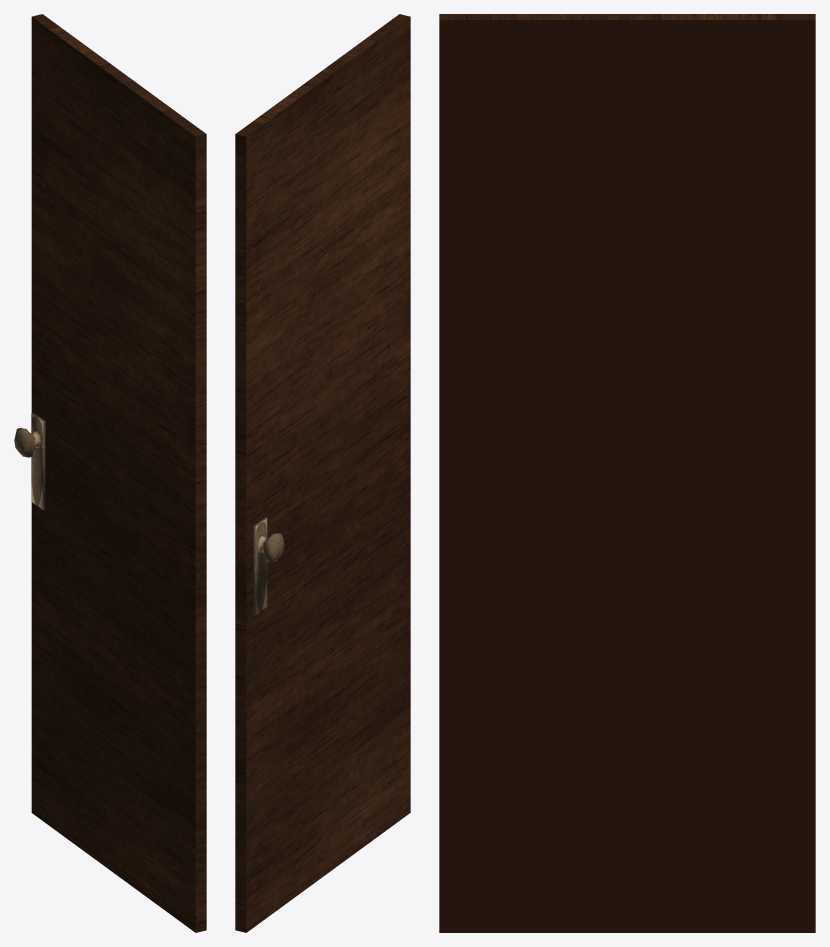
File: door.gltf
The picture shows the model from 3 angles, left to right: view 1: azimuth 30°, elevation 25°; view 2: azimuth 150°, elevation 25°; view 3: azimuth 270°, elevation 25°; orthographic projection. The views are drawn at different scales.
Visible parts, largest first — view 1: DoorBody; view 2: DoorBody; view 3: DoorBody.
Boxes of the visible parts, <box> form: DoorBody: <box>14,14,206,932</box>; DoorBody: <box>235,14,410,932</box>; DoorBody: <box>439,14,815,932</box>.
Bounding box in the file's own units: 0.0944 × 2.09 × 0.7828.
1 material, 1 textured.
